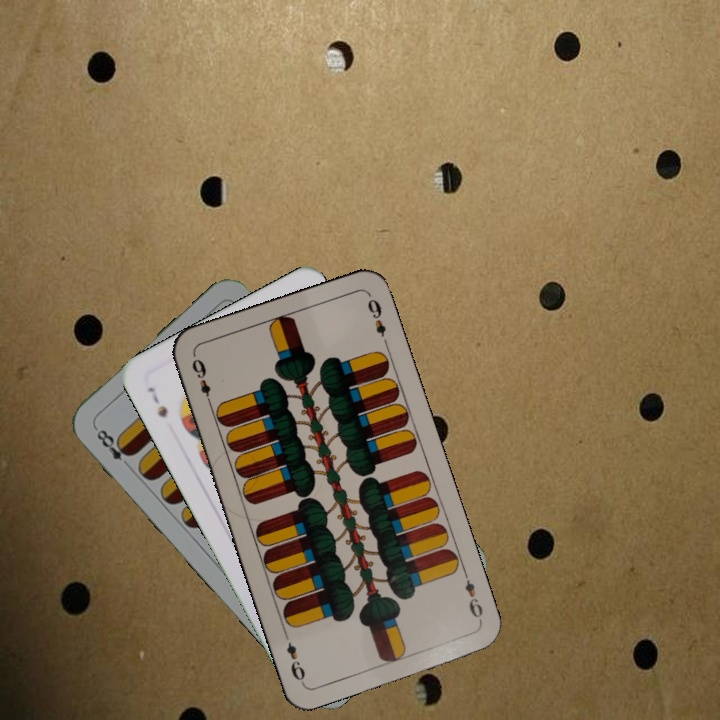E8: (90, 423, 136, 471)
E9: (459, 567, 486, 625), (187, 355, 215, 410)
S7: (143, 382, 170, 421)
